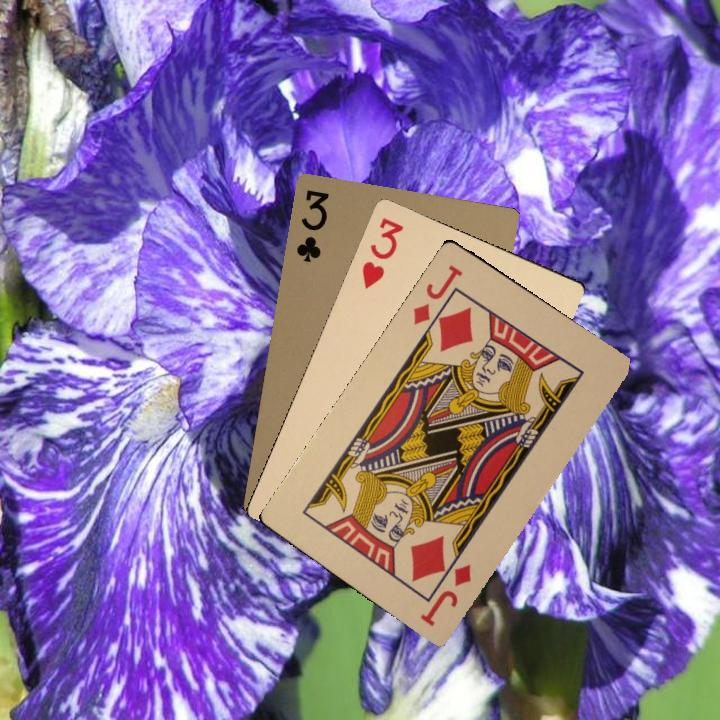3c: (292, 185, 331, 265)
3h: (358, 213, 406, 291)
Jd: (416, 560, 474, 629), (409, 261, 466, 327)
